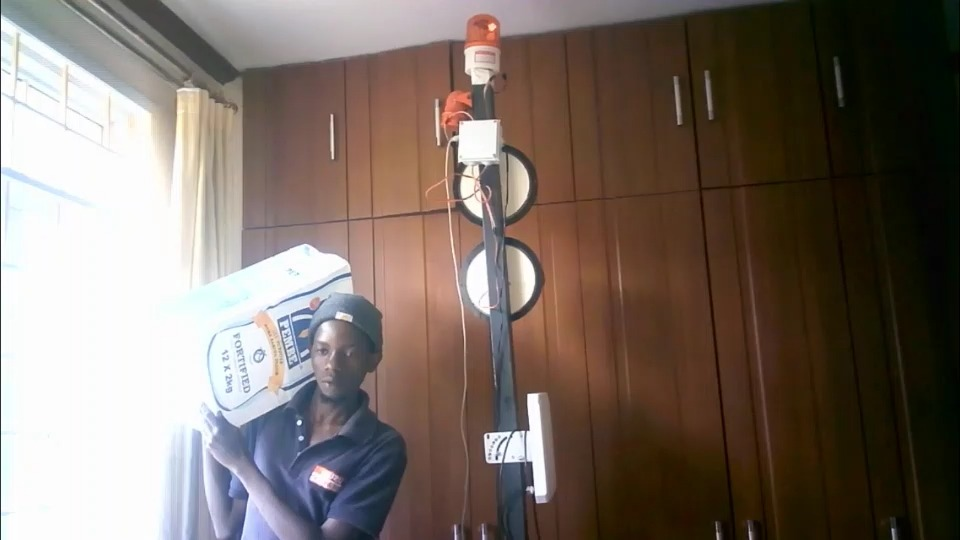wheat_flour_blue_label: (189, 248, 354, 423)
